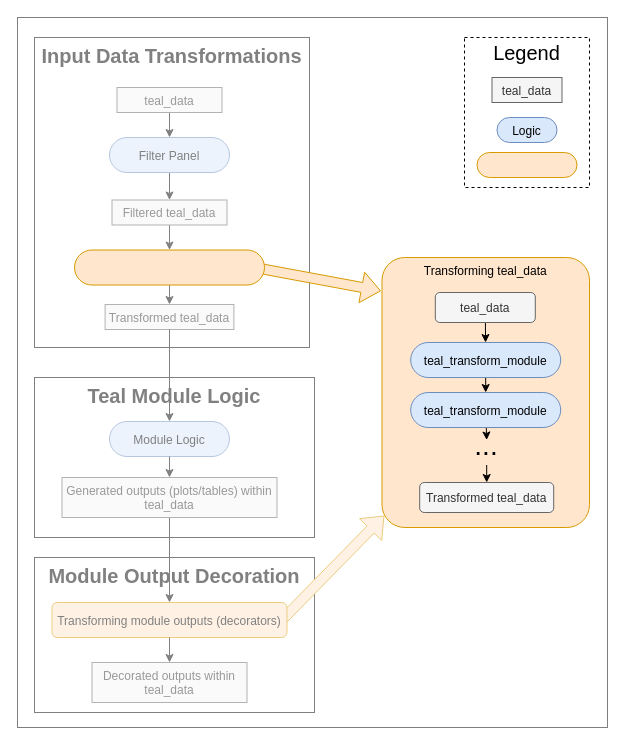
Image size: 625x745. Some labels were removed from this diagram. The shapes that lost their labels are listed below. From the top down, each one's centre as x and y in pixels, then its label:
(x=526, y=165): Transform Logic
(x=169, y=267): Transform Panel (transformators)
